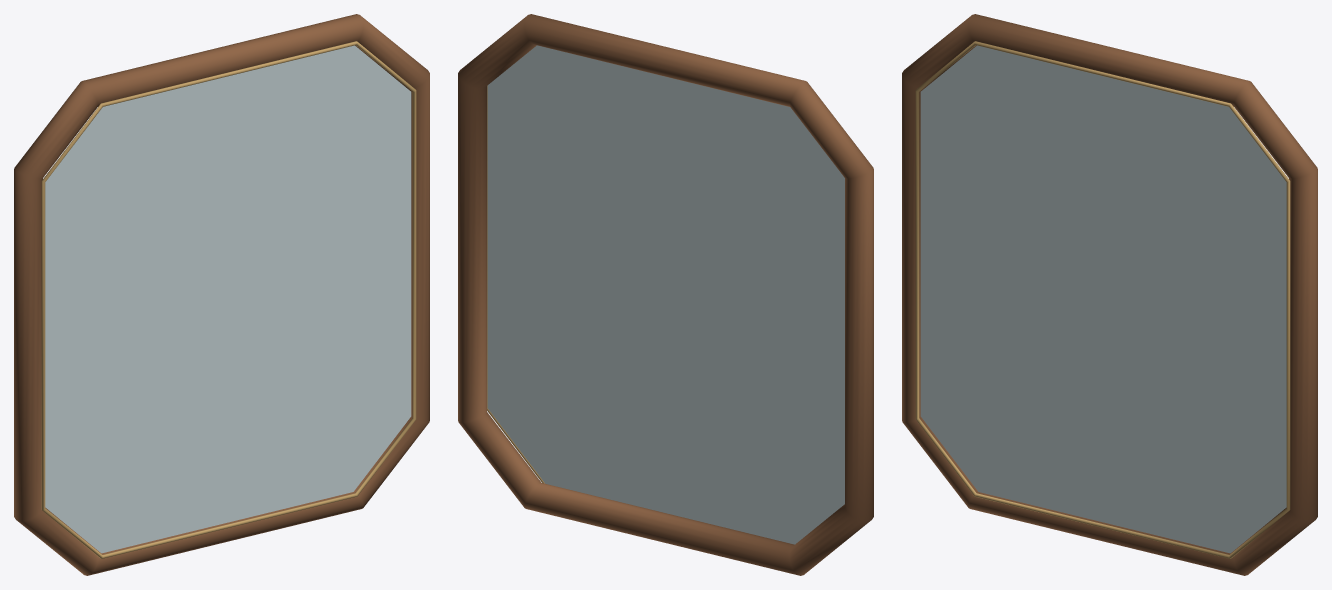
File: designed-mirror-faceted.glb
3 renders of one model, left to right at view 1: azimuth 30°, elevation 25°; view 2: azimuth 150°, elevation 25°; view 3: azimuth 330°, elevation 25°, orthographic.
Visible parts, largest first — view 1: catalog_surface_UVMap, catalog_surface_RealismUV; view 2: catalog_surface_UVMap, catalog_surface_RealismUV; view 3: catalog_surface_UVMap, catalog_surface_RealismUV.
Part boxes in pixels (x1,y1,x2,y2): catalog_surface_UVMap: [45, 45, 411, 553]; catalog_surface_RealismUV: [14, 14, 429, 575]; catalog_surface_UVMap: [487, 45, 844, 544]; catalog_surface_RealismUV: [458, 14, 873, 575]; catalog_surface_UVMap: [920, 45, 1286, 553]; catalog_surface_RealismUV: [902, 14, 1317, 575].
Bounding box in the file's own units: 0.7 × 0.8 × 0.045.
